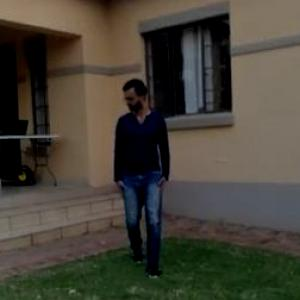follow: (110, 70, 170, 281)
